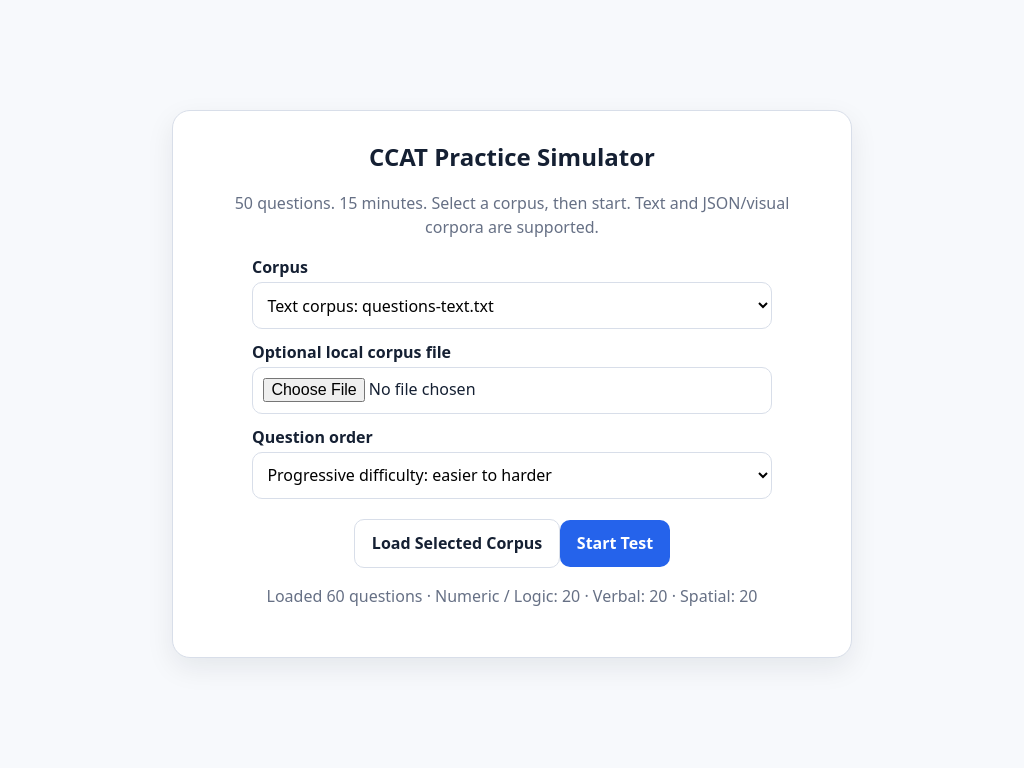
Test: App React smoke integration › mounts real app and completes start -> answer -> summary
Check: the text with id "corpusStatus" shows "Loaded", box [266,585,757,607]
Click the button with id "startBtn".
click(615, 543)  # box [560,520,670,567]
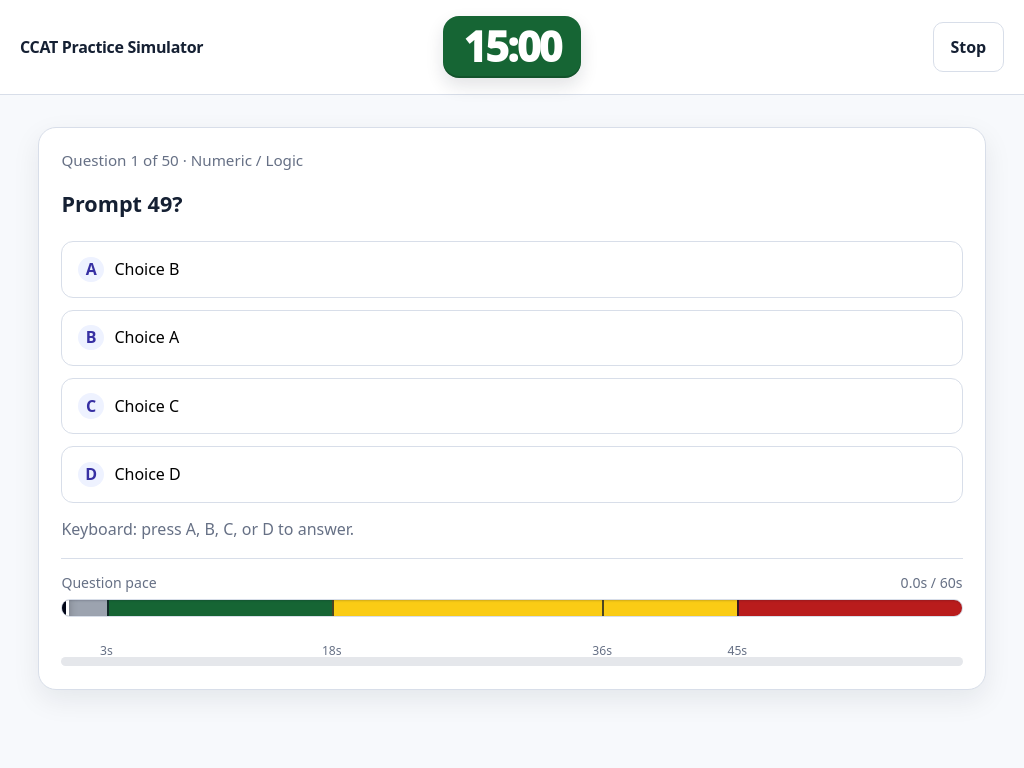
Check: the element that starts with "Question 1 of 50 · Numeric / Logic" is shown
Check: the button with class "answer-btn" showing "A Choice B" is shown
Click the button with class "answer-btn" showing "A Choice B".
click(147, 269)  # box [61,241,963,298]
Wait 230 ms
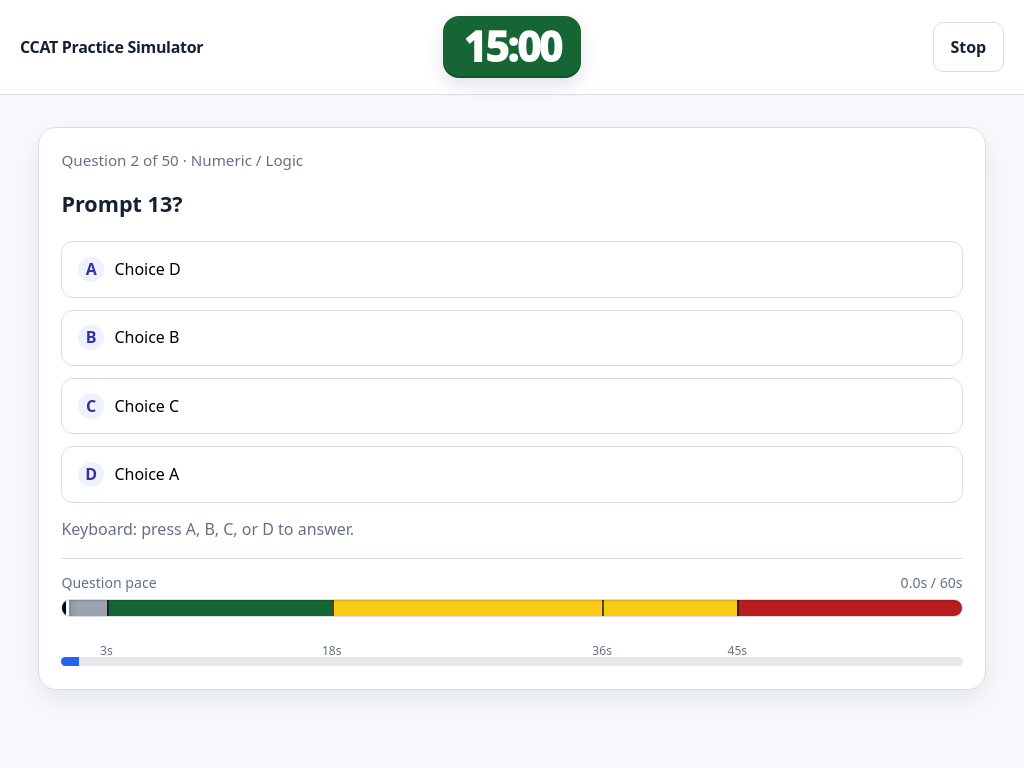
Click the button with id "stopBtn".
click(968, 47)  # box [933,22,1004,72]
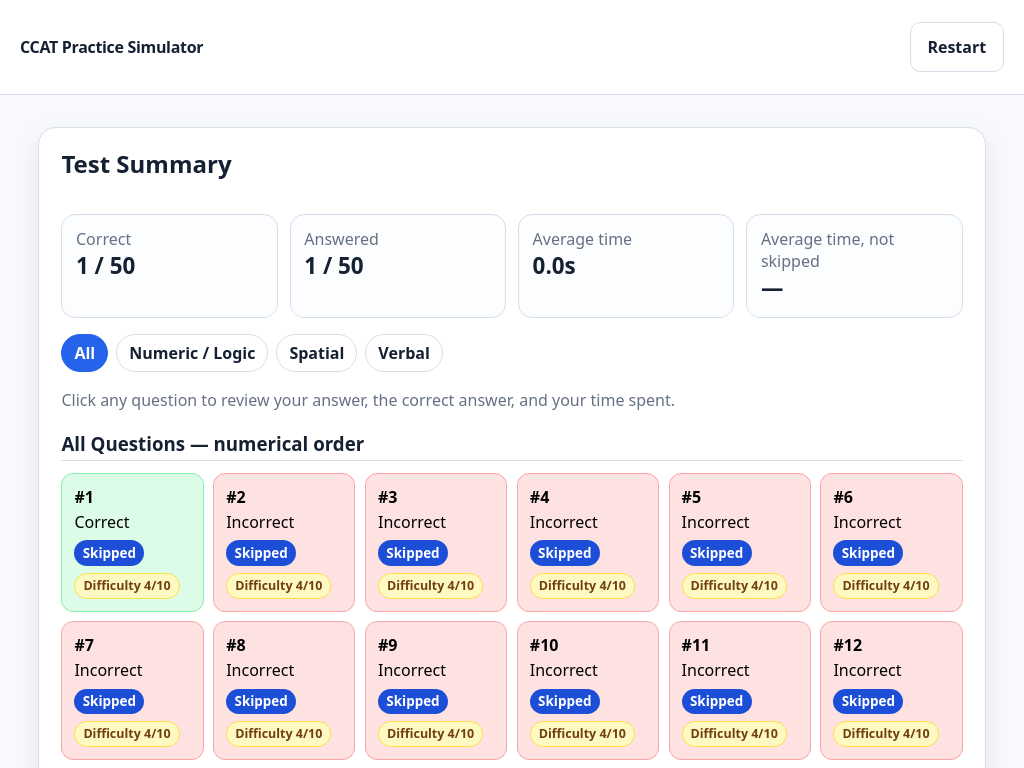
Check: the element with id "summaryStats" shows "Answered", box [304,228,379,250]
